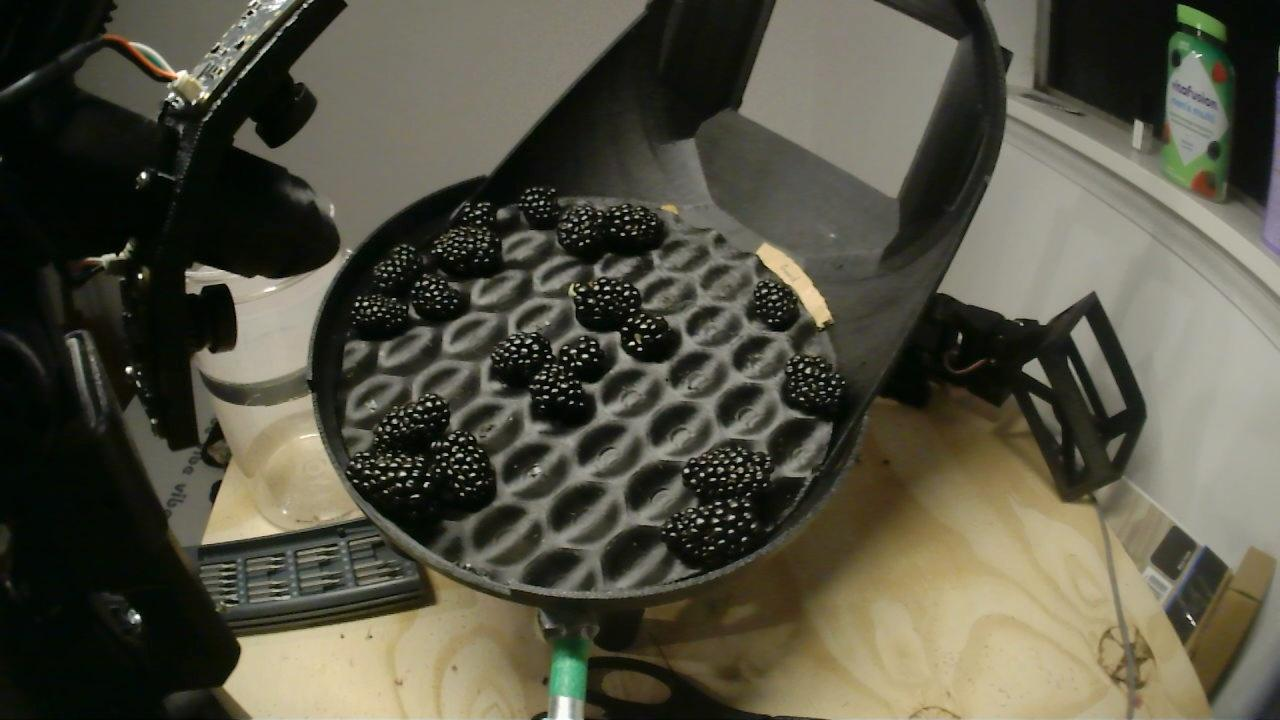berry: (665, 499, 764, 569), (348, 451, 442, 519), (683, 444, 773, 500), (427, 433, 494, 508), (782, 355, 846, 418), (372, 397, 446, 451), (571, 277, 639, 329), (527, 373, 593, 425), (436, 225, 502, 276), (598, 202, 665, 251), (557, 204, 607, 260), (352, 292, 414, 337), (492, 333, 550, 381), (622, 312, 678, 360), (409, 274, 467, 320), (374, 243, 424, 295), (747, 280, 801, 327), (561, 335, 611, 381), (518, 185, 561, 228), (450, 201, 496, 229)
